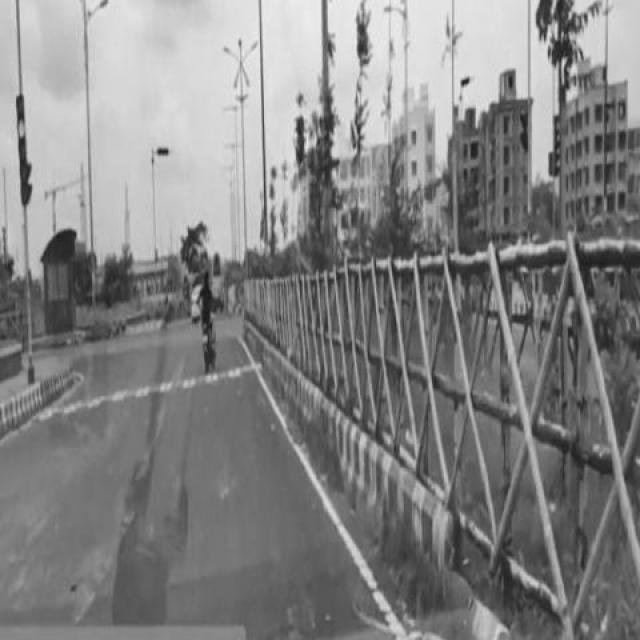Speed Bump: (36, 362, 264, 419)
